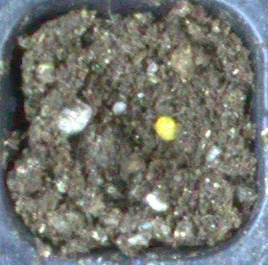pepper seed: (63, 45, 242, 187)
